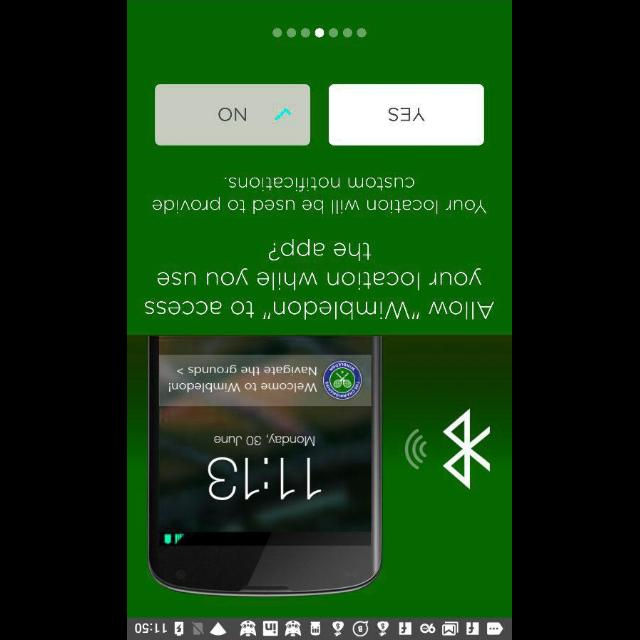image: (128, 336, 512, 616)
pageindicator: (272, 27, 368, 39)
text: (145, 238, 495, 320), (153, 176, 487, 214)
textbutton: (329, 84, 485, 146), (155, 84, 311, 146)
uppertaskbar: (128, 617, 512, 639)
